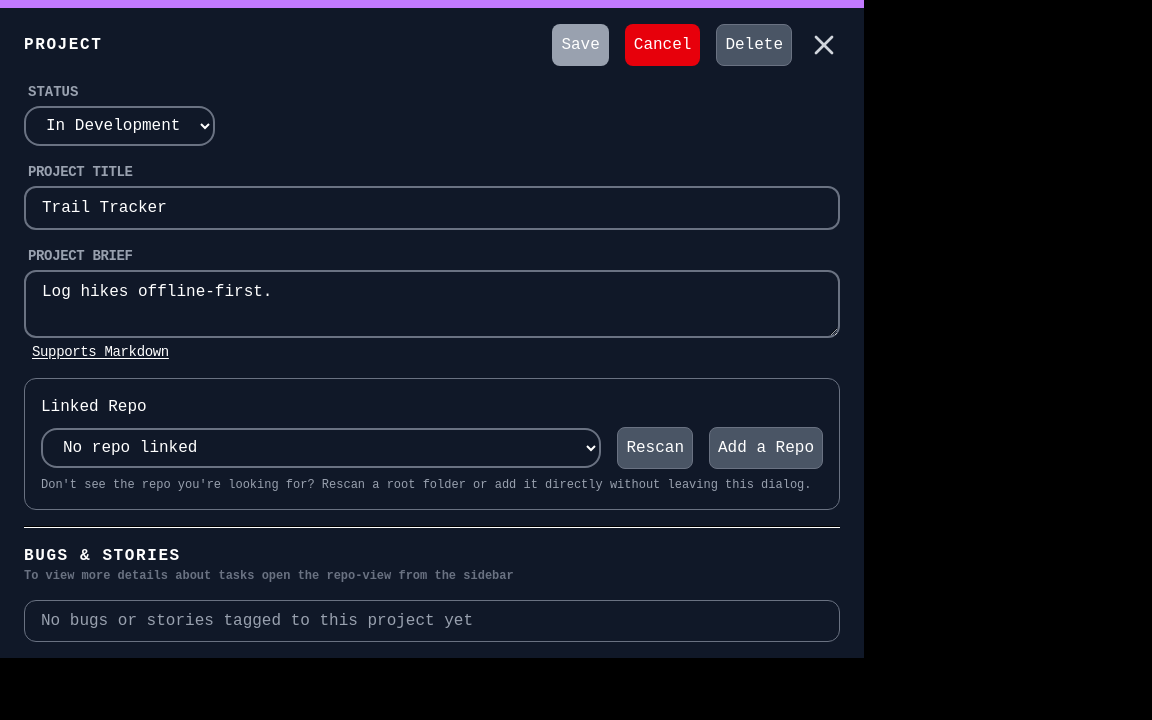
Test: ProjectCardExpanded — repo linking › adds a single repo without leaving the dialog and selects it
The width and height of the screenshot is (1152, 720).
Click the button "Add a Repo" at {"x": 766, "y": 448}, box [709,427,823,469]
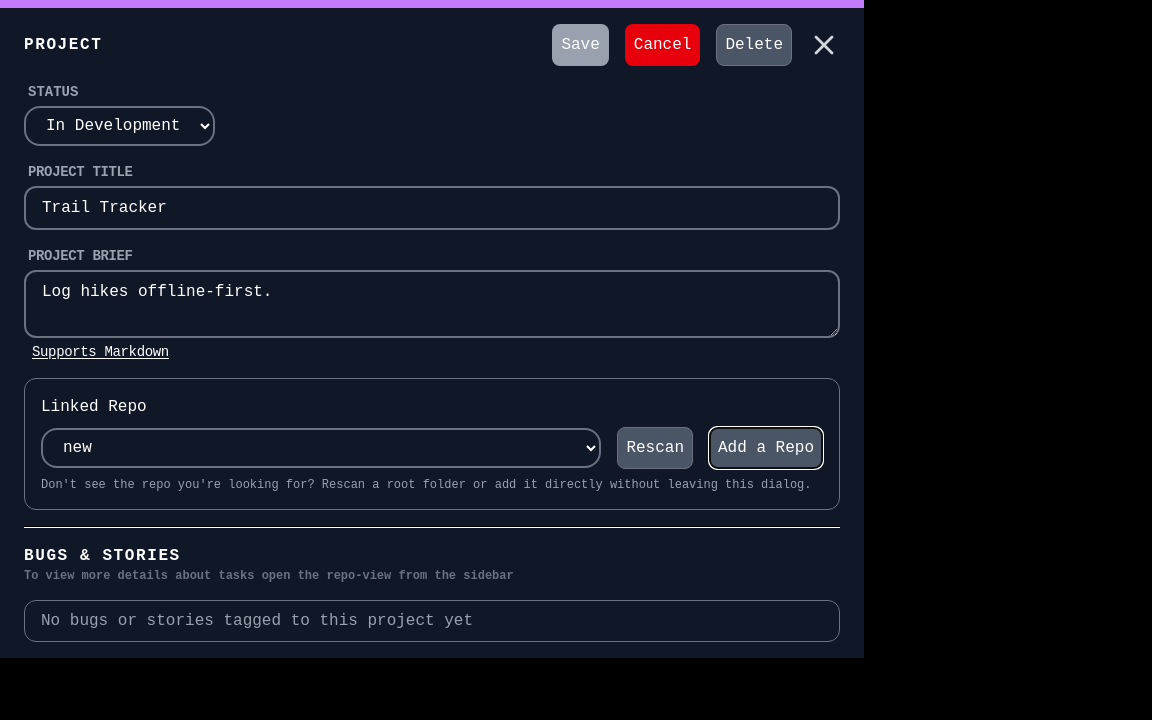
Check: the dropdown labelled "Linked Repo" shows "new", box [41,428,601,468]
